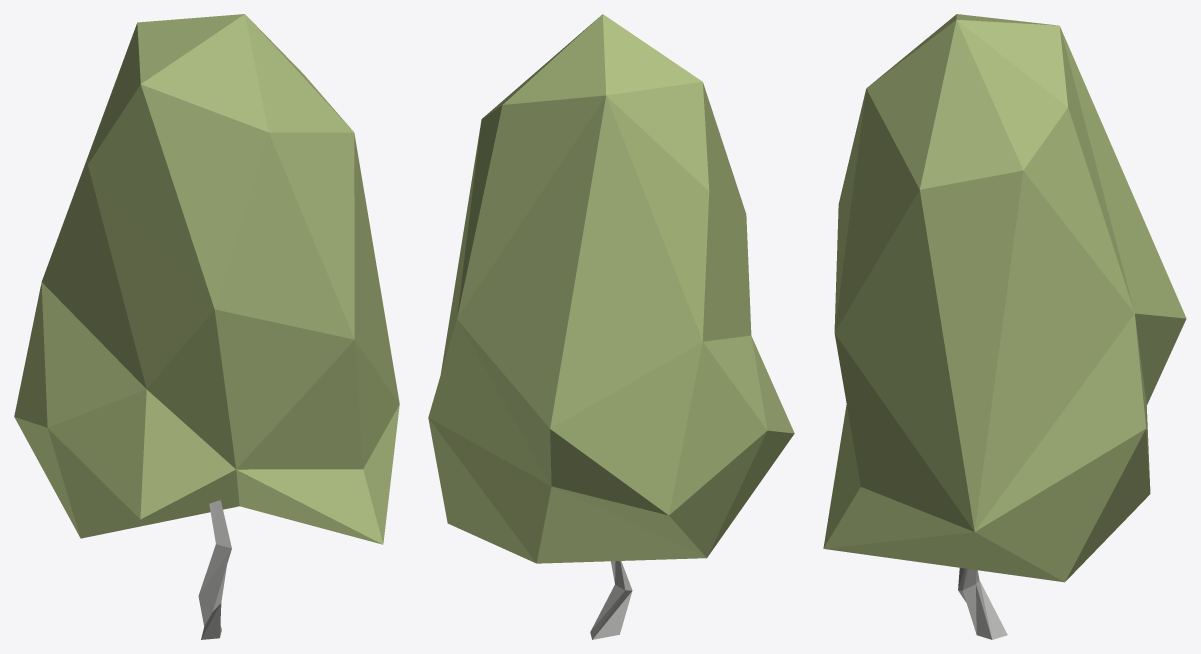
File: LiquidambarStyraciflua.glb
3 renders of one model, left to right at view 1: azimuth 30°, elevation 25°; view 2: azimuth 150°, elevation 25°; view 3: azimuth 270°, elevation 25°, orthographic. The views are drawn at different scales.
Parts seen in each view (by area): view 1: Crown, Trunk; view 2: Crown, Trunk; view 3: Crown, Trunk.
Boxes of the visible parts, x1,y1,x2,y2 form: Crown: (14, 14, 399, 544); Trunk: (198, 500, 231, 639); Crown: (428, 14, 794, 563); Trunk: (590, 561, 632, 639); Crown: (823, 14, 1186, 582); Trunk: (958, 568, 1007, 639).
Size of the model in its own units: 8.51 by 14.67 by 7.75.
